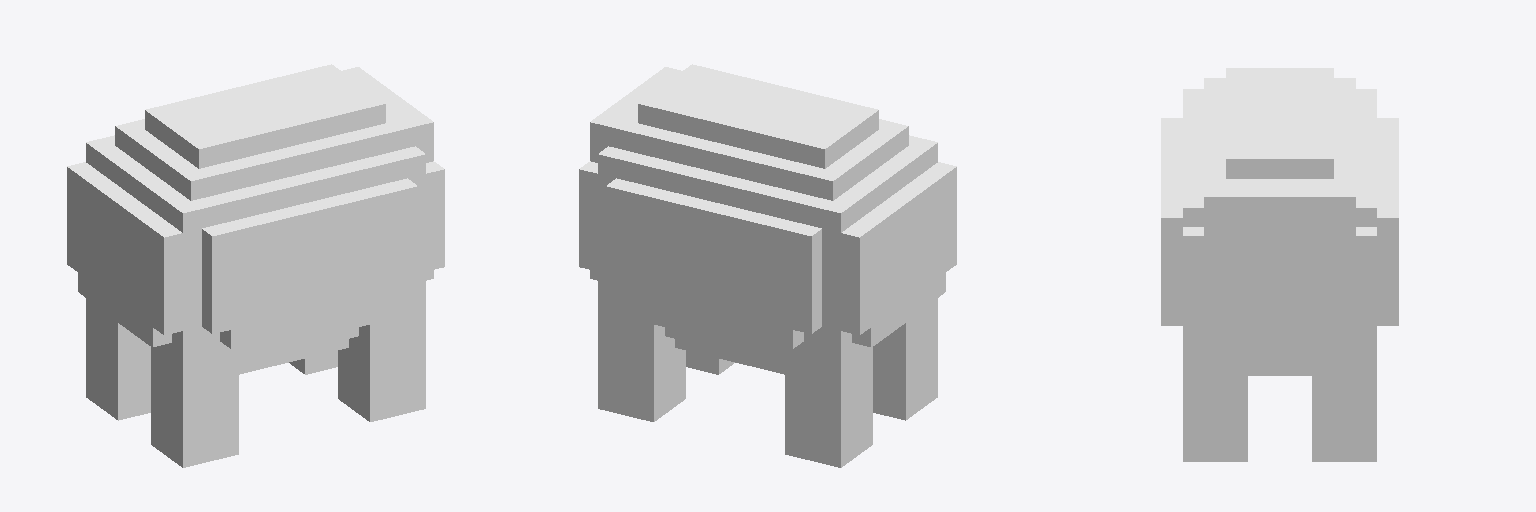
Rendered from untddditled.obj.
The picture shows the model from 3 angles: view 1: azimuth 30°, elevation 25°; view 2: azimuth 150°, elevation 25°; view 3: azimuth 270°, elevation 25°; orthographic projection.
Visible parts, largest first — view 1: object 1; view 2: object 1; view 3: object 1.
Part boxes in pixels (x1,y1,x2,y2): object 1: (67,64,444,467); object 1: (579,64,956,467); object 1: (1161,68,1398,461).
Size of the model in its own units: 1.5 by 1.5 by 1.1.